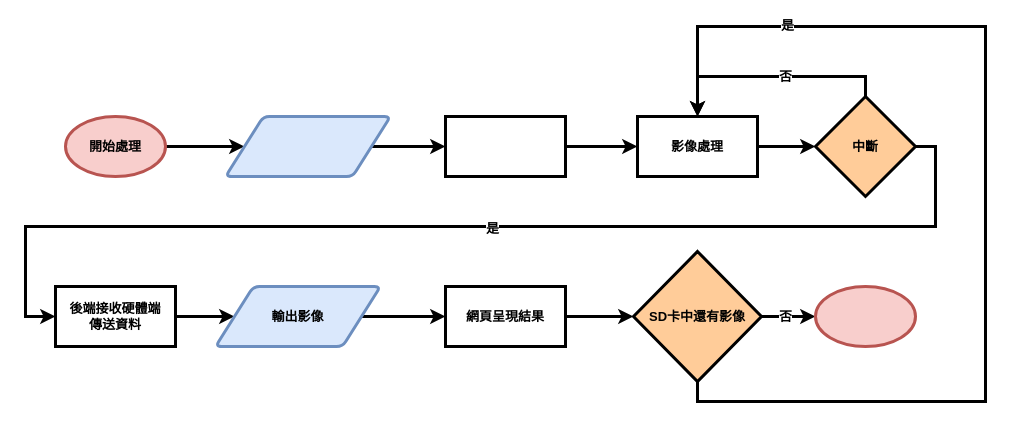
The diagram is 1012 pixels wide and 428 high, and some of its shapes have lost their labels. Each missing label, with the centre of its shape:
"後端接收網頁 設定條件" belongs at point (505, 146).
"結束處理" belongs at point (865, 316).
"網頁設定中斷條件 (contours面積 )" belongs at point (308, 146).
